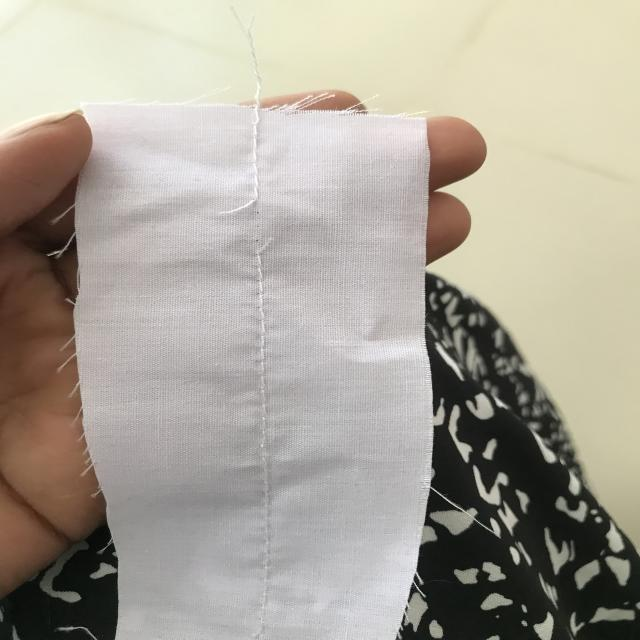broken: (211, 192, 296, 264)
